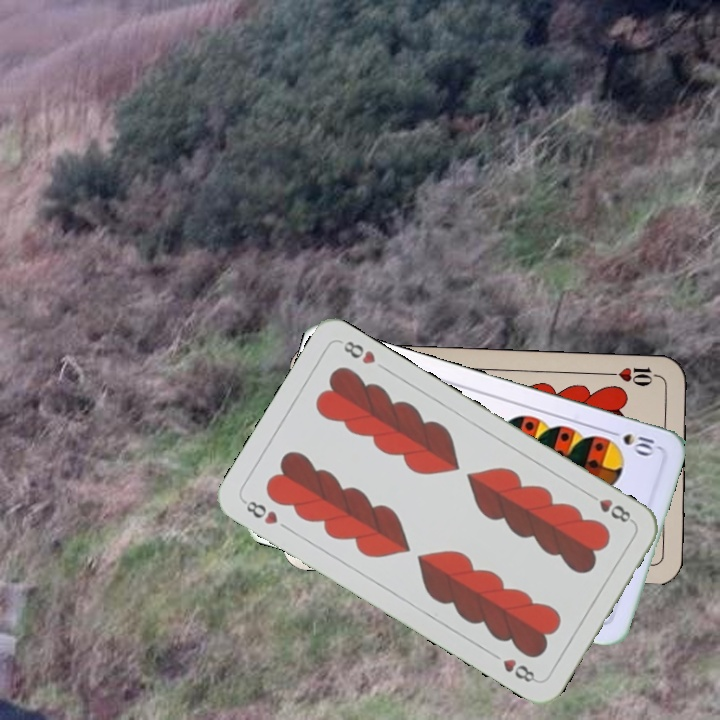H10: (604, 363, 663, 389)
H8: (583, 489, 636, 526), (239, 496, 281, 528)
S10: (603, 426, 661, 459)
